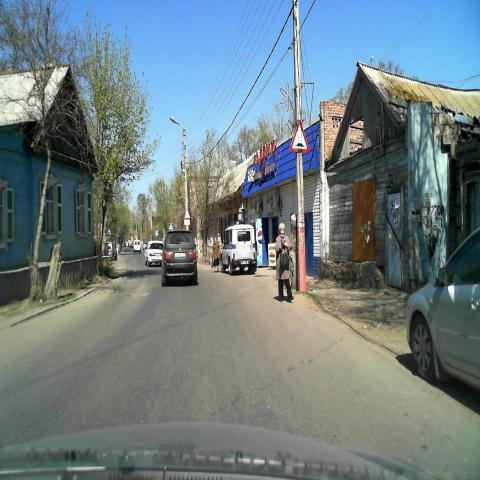1_17: (290, 120, 310, 154)
1_23: (184, 209, 190, 219)
